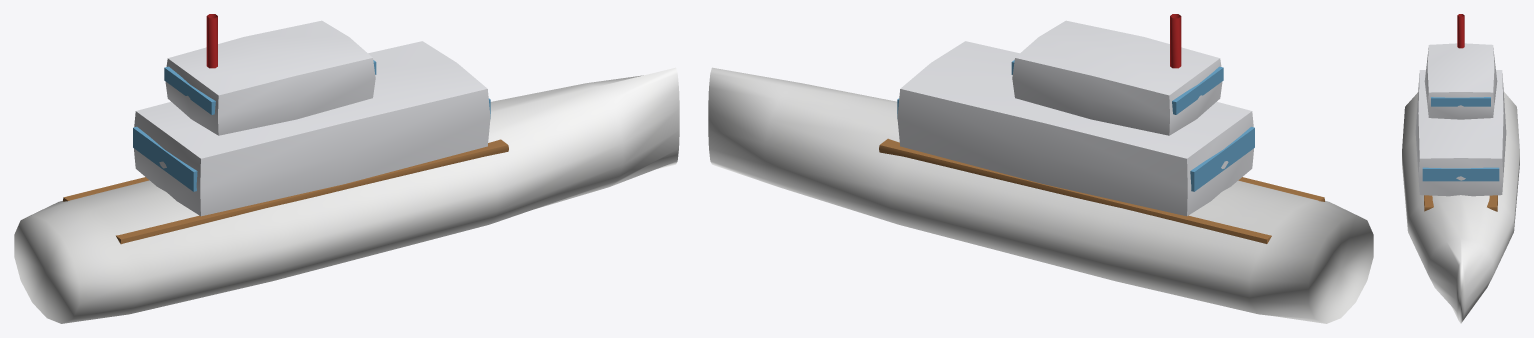
Rendered from Boat_L2.obj.
3 views of the same model, side by side, from view 1: azimuth 30°, elevation 25°; view 2: azimuth 150°, elevation 25°; view 3: azimuth 270°, elevation 25° (orthographic). The views are drawn at different scales.
Visible parts, largest first — view 1: Boat_L2; view 2: Boat_L2; view 3: Boat_L2.
Part boxes in pixels (bbox=[...]): Boat_L2: bbox=[14, 14, 679, 323]; Boat_L2: bbox=[708, 14, 1373, 323]; Boat_L2: bbox=[1402, 14, 1519, 323].
Size of the model in its own units: 3.8 by 1.51 by 0.975.
1 material, 1 textured.
